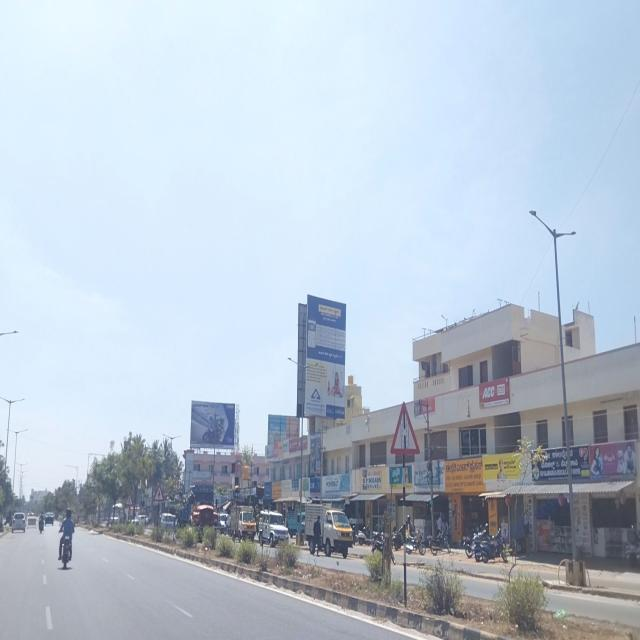bien_cam: (390, 400, 421, 454), (153, 484, 164, 502), (125, 491, 133, 506)
